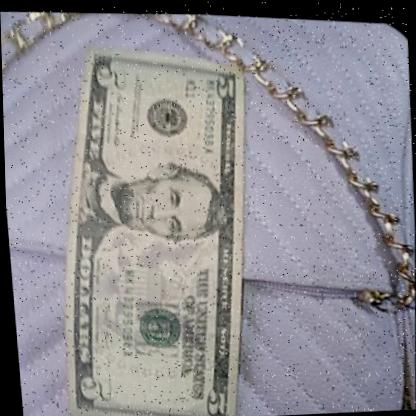five-front: (40, 29, 278, 416)
